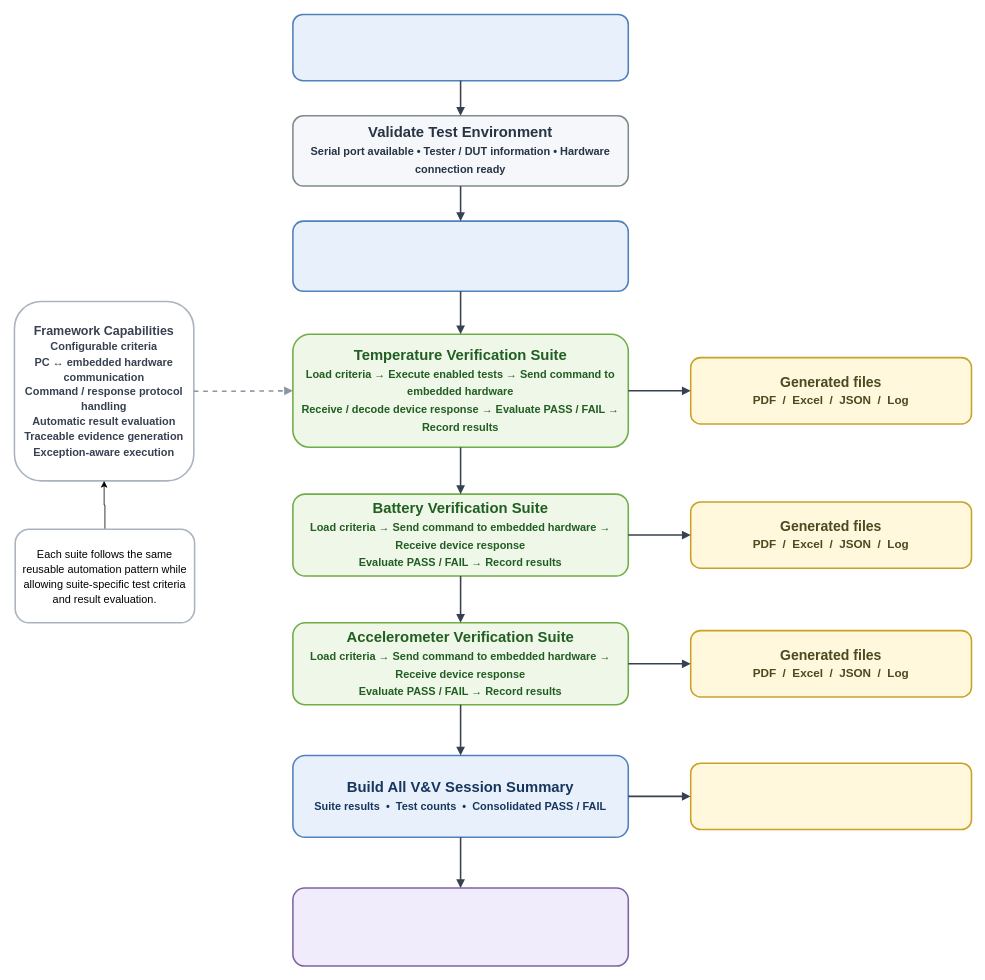
Some shapes in this 985 by 980 pixel diagram are drawn without their labels. The centre of each missing label's shape, as x and y in pixels:
"All V&V Tests Execute complete verification workflow" goes at (460,47).
"Generated file All V&V Session JSON" goes at (831,796).
"Initialize V&V Session Session ID • Result folders • Logging" goes at (460,256).
"Overall V&V Result PASS / FAIL" goes at (460,926).
